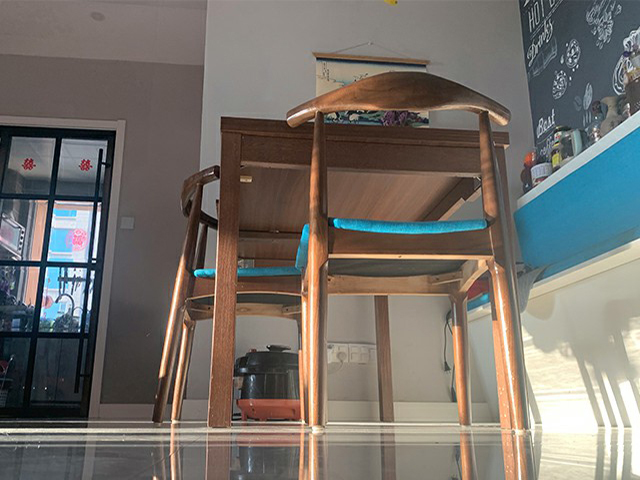stool: (285, 71, 531, 432), (152, 164, 313, 425)
table: (207, 115, 527, 430)
